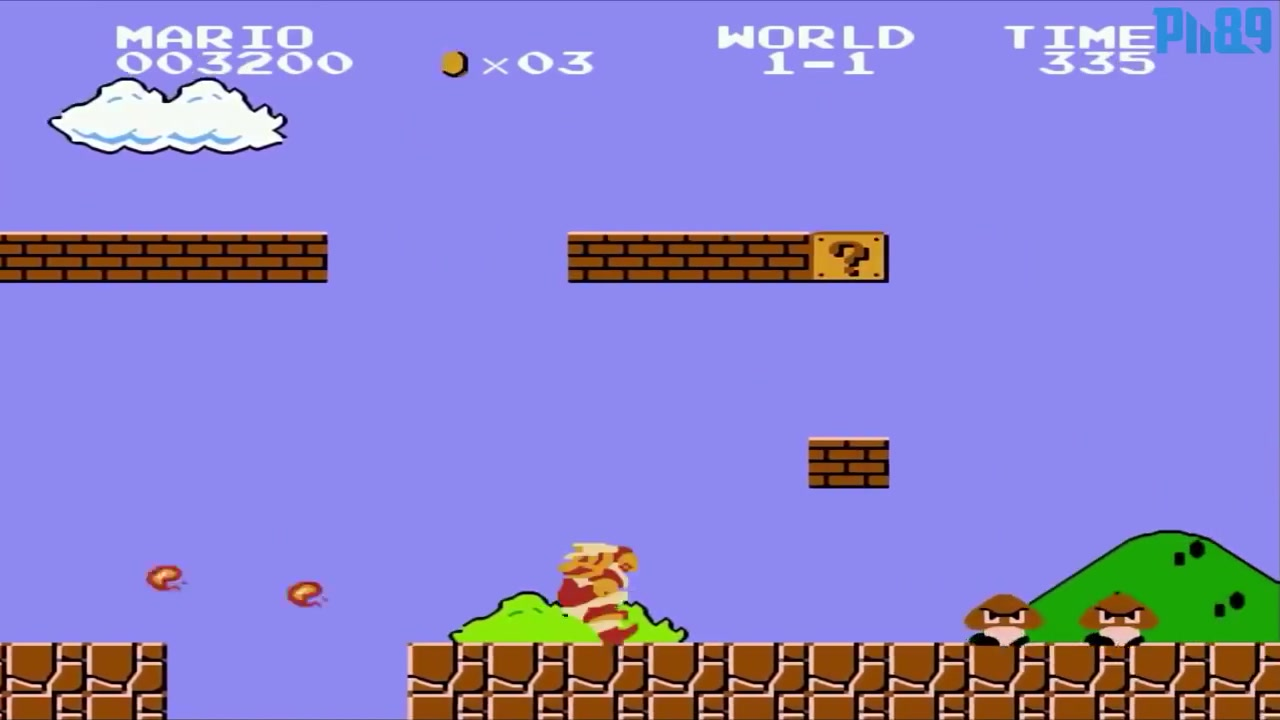mario: (552, 534, 646, 649)
